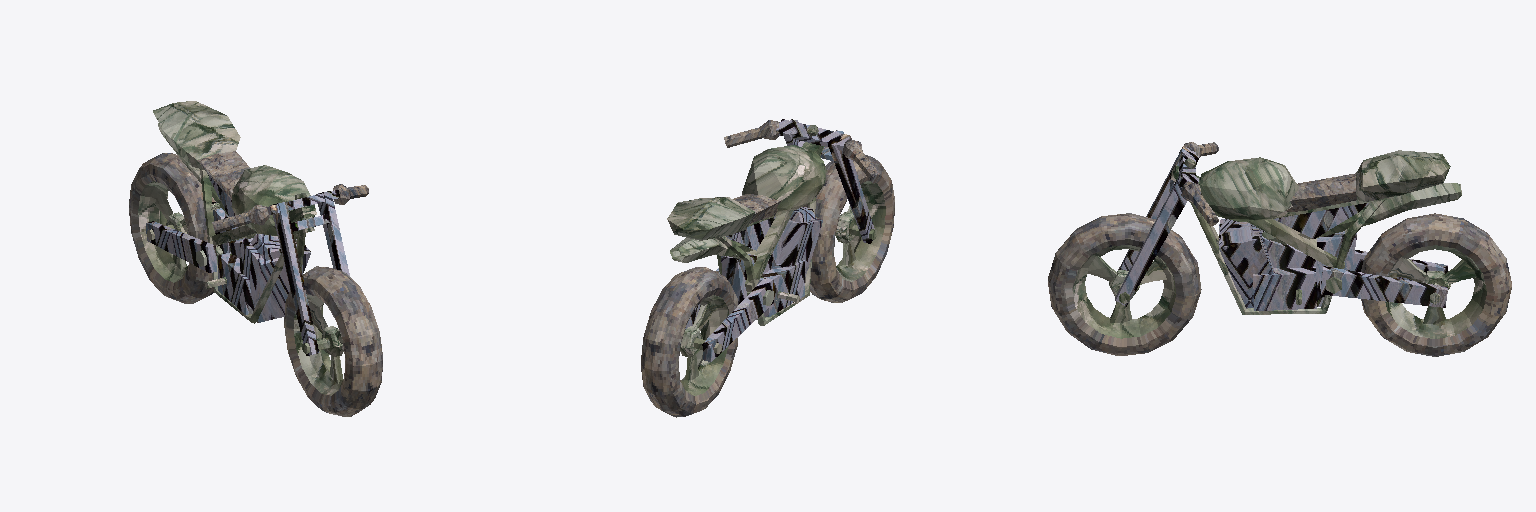
3 views of the same model, side by side, from view 1: azimuth 30°, elevation 25°; view 2: azimuth 150°, elevation 25°; view 3: azimuth 270°, elevation 25° (orthographic).
Visible parts, largest first — view 1: front_tire, rear_tire, engine, front_arm, tail, tank, front_wheel, rear_wheel, rear_arm, frame_low, seat, handle (+2 smaller); view 2: rear_tire, front_tire, tank, engine, tail, front_arm, rear_wheel, front_wheel, rear_arm, engine_guts, handle, frame_mid (+3 smaller); view 3: front_tire, rear_tire, engine, tank, front_wheel, rear_wheel, tail, rear_arm, front_arm, engine_guts, exhaust, frame_low (+3 smaller).
Boxes of the visible parts, box(x1,y1,x2,y2) form: front_tire: box(284, 266, 382, 416); rear_tire: box(129, 153, 215, 303); engine: box(218, 234, 310, 322); front_arm: box(267, 190, 349, 355); tail: box(153, 101, 240, 169); tank: box(231, 165, 314, 235); front_wheel: box(293, 295, 343, 395); rear_wheel: box(138, 181, 187, 282); rear_arm: box(146, 221, 247, 272); frame_low: box(200, 169, 305, 323); seat: box(197, 151, 249, 199); handle: box(212, 184, 368, 232); rear_tire: box(641, 267, 737, 417); front_tire: box(803, 155, 894, 302); tank: box(742, 145, 826, 211); engine: box(758, 207, 822, 316); tail: box(667, 197, 754, 240); front_arm: box(776, 119, 874, 243); rear_wheel: box(680, 295, 728, 395); front_wheel: box(835, 181, 885, 281); rear_arm: box(685, 268, 773, 361); engine_guts: box(721, 216, 783, 304); handle: box(724, 120, 880, 183); frame_mid: box(745, 142, 824, 291); front_tire: box(1048, 213, 1201, 355); rear_tire: box(1361, 213, 1511, 356); engine: box(1219, 219, 1316, 310); tank: box(1199, 157, 1298, 221); front_wheel: box(1073, 245, 1175, 338); rear_wheel: box(1385, 245, 1486, 338); tail: box(1356, 150, 1450, 201); rear_arm: box(1320, 250, 1447, 307); front_arm: box(1115, 146, 1198, 306); engine_guts: box(1262, 203, 1368, 306); exhaust: box(1262, 183, 1461, 244); frame_low: box(1190, 200, 1384, 314).
Size of the model in its own units: 0.7472 by 0.9074 by 1.93.
Materials: 5 (3 with a texture image).